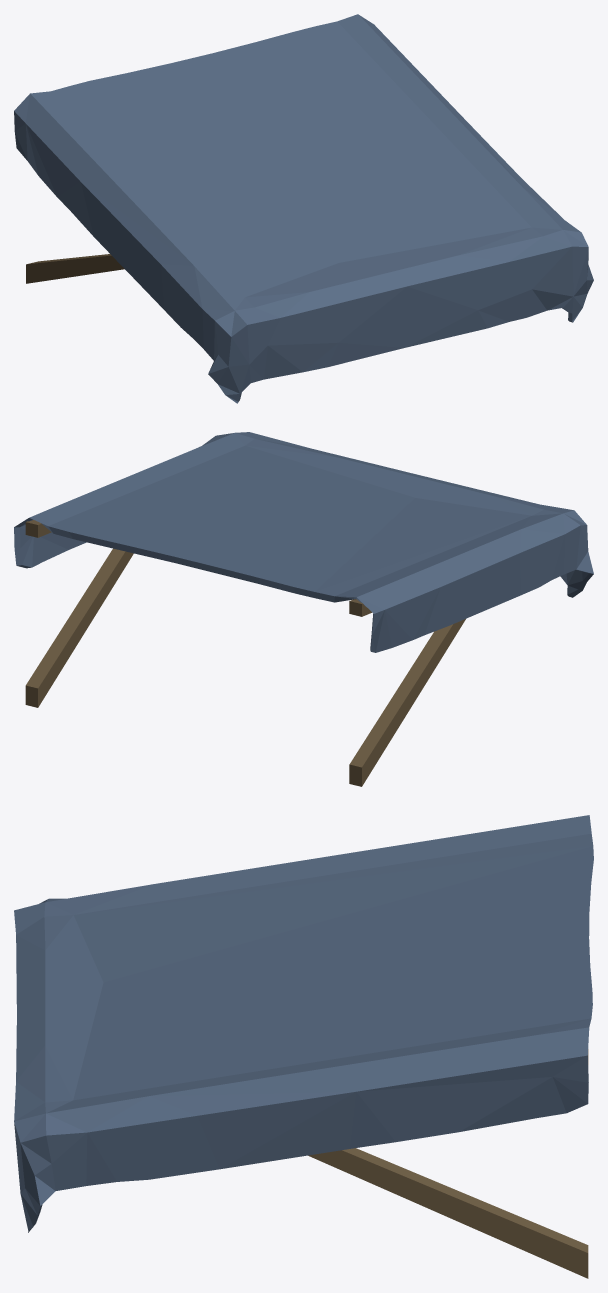
The model's file is greek_awning_2.fbx.
3 renders of one model, top to bottom at view 1: azimuth 30°, elevation 25°; view 2: azimuth 150°, elevation 25°; view 3: azimuth 270°, elevation 25°, orthographic. The views are drawn at different scales.
Parts seen in each view (by area): view 1: Plane.005, Cube.069; view 2: Plane.005, Cube.069; view 3: Plane.005, Cube.069.
Boxes of the visible parts, x1,y1,x2,y2 form: Plane.005: (14,14,593,403); Cube.069: (26,254,124,283); Plane.005: (14,432,593,652); Cube.069: (25,520,465,786); Plane.005: (14,815,593,1232); Cube.069: (308,1049,588,1278).
Size of the model in its own units: 310 by 145 by 305.
